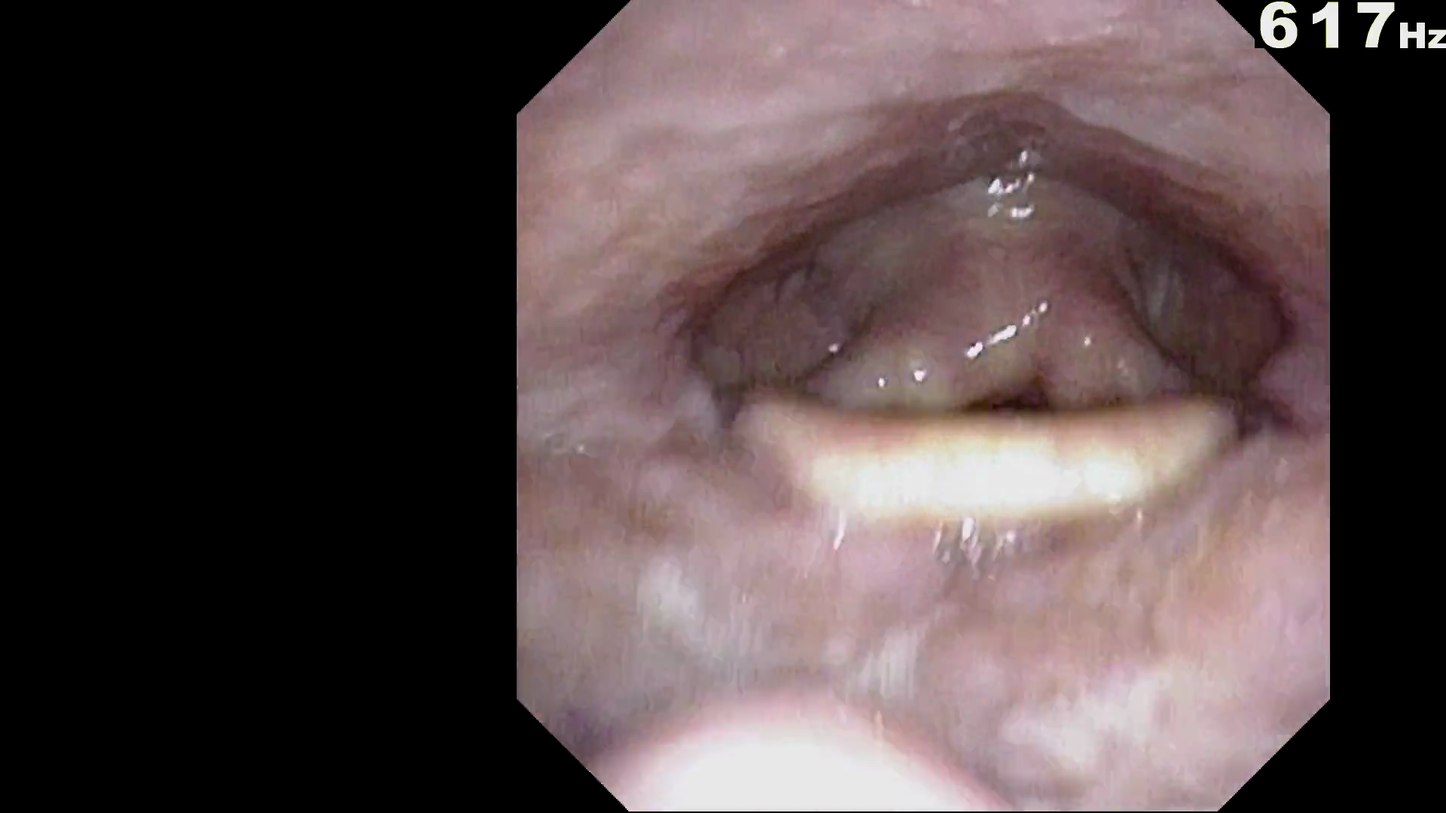epiglottis: (733, 334, 1244, 545)
